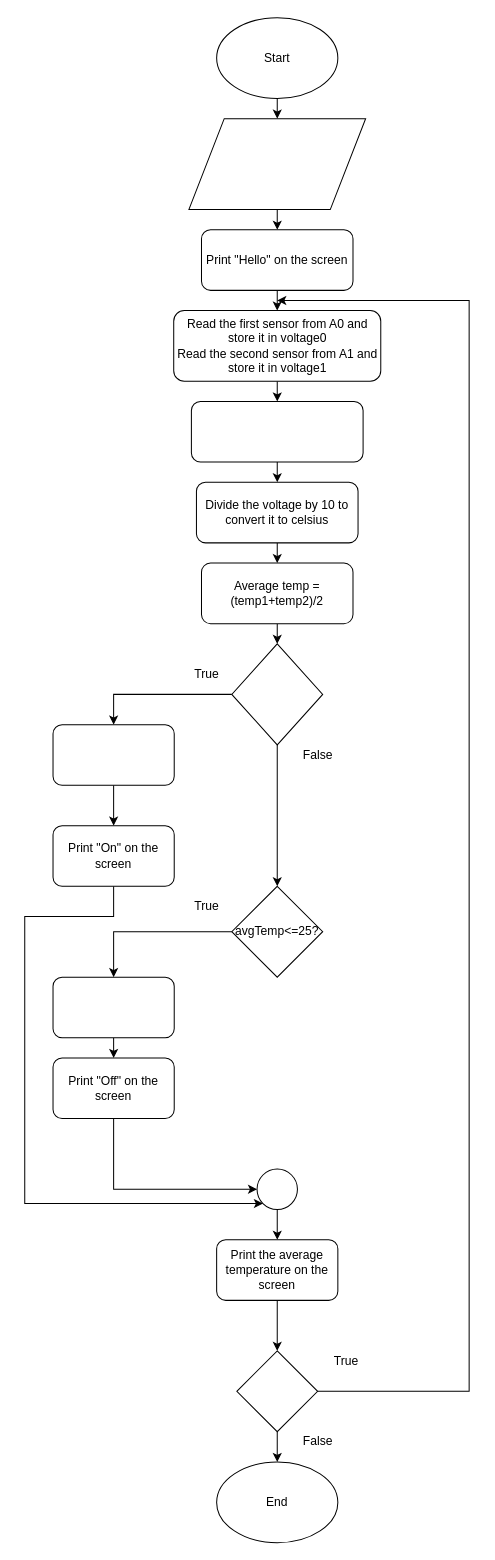
The diagram is 495 pixels wide and 1560 high, and some of its shapes have lost their labels. Each missing label, with the centre of its shape:
"avgTemp>30?" belongs at [277,694].
"port A as input port D as output" belongs at [277,164].
"Run the fan" belongs at [113,754].
"Stop the fan" belongs at [113,1007].
"voltage0 = result0 * 5000/1023 voltage1 = result1 * 5000/1023" belongs at [276,431].
